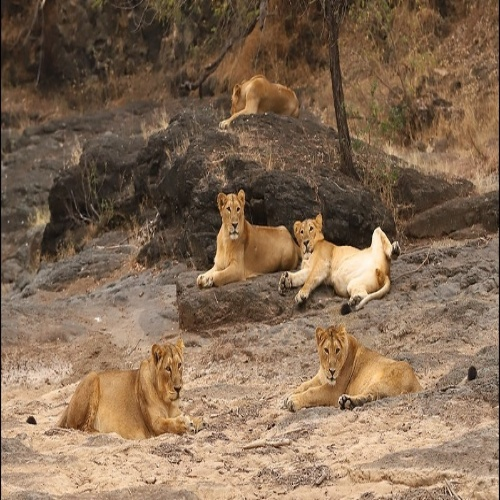lion: (54, 308, 479, 455), (201, 189, 402, 315)
